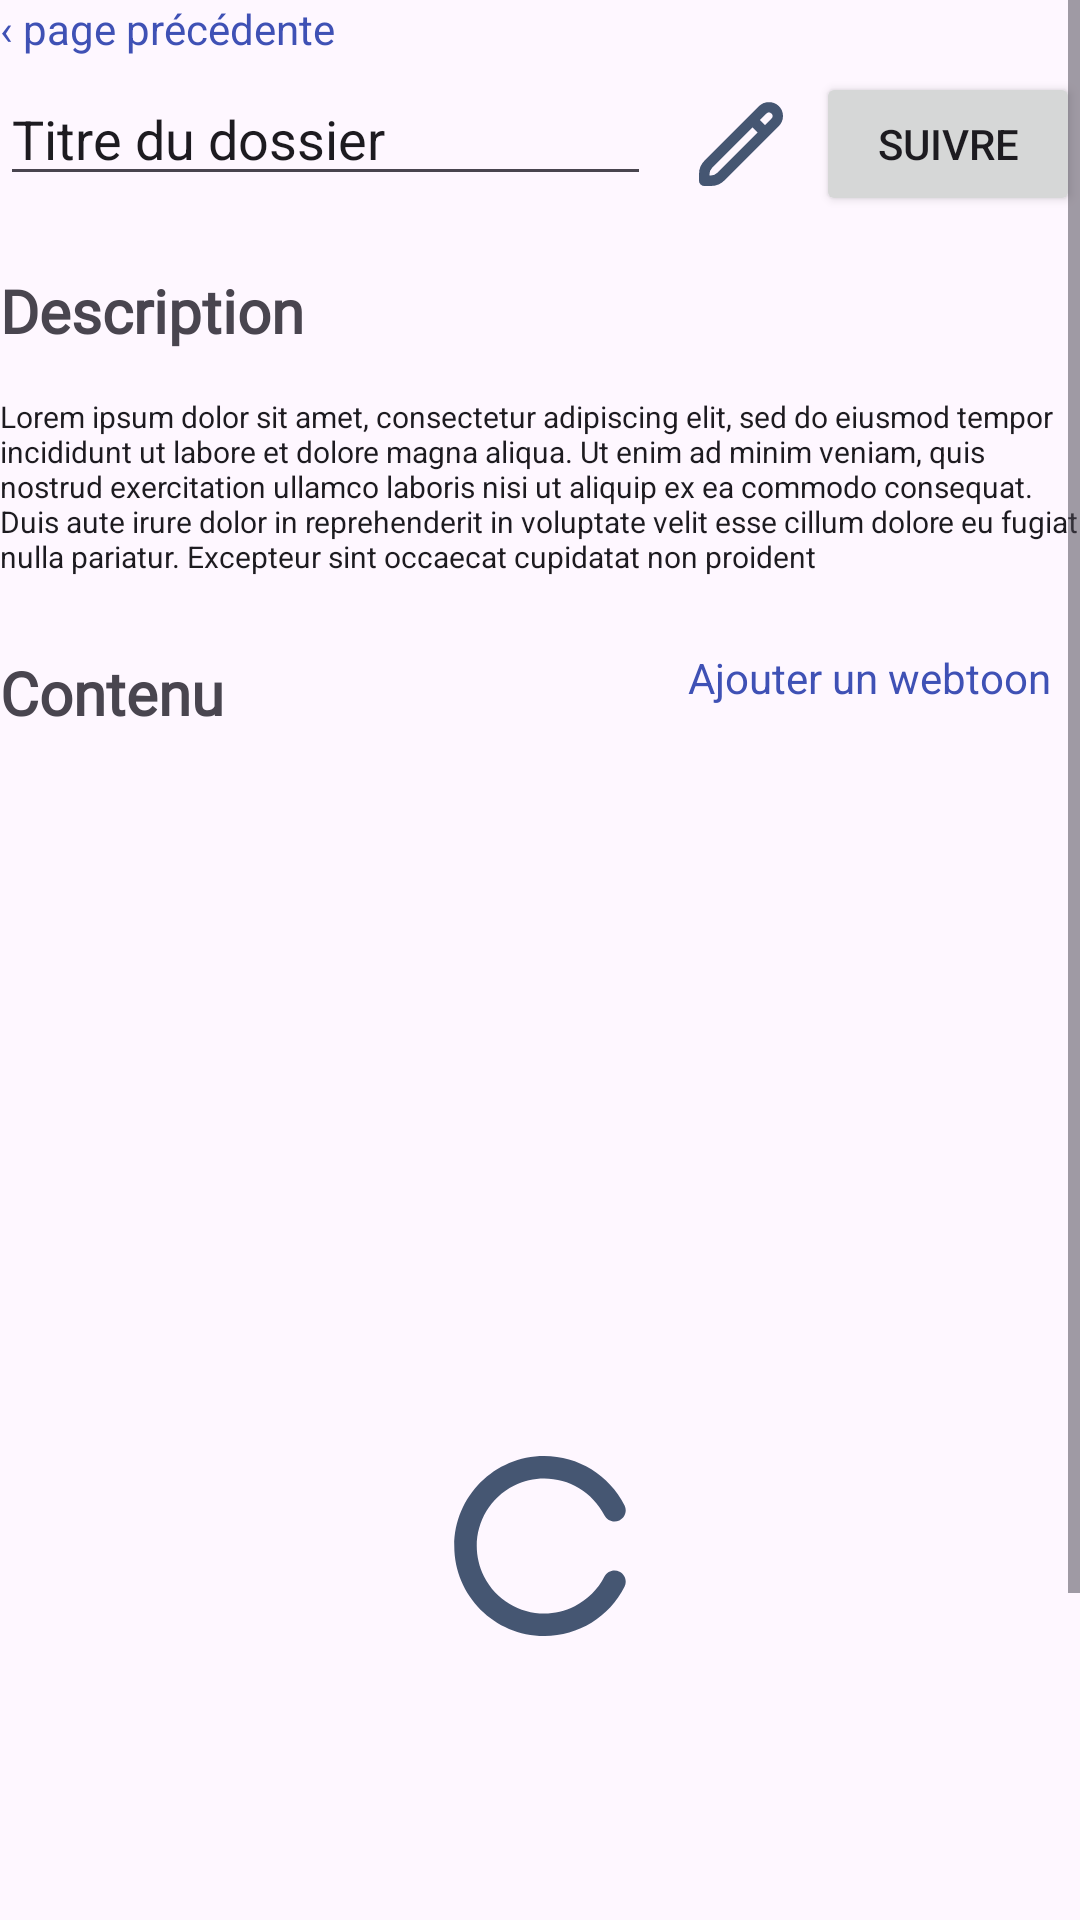

Where to tap for icons on this 1080px x 1920px app screen, as (x=x, y=y):
pencil: (x=741, y=144)
